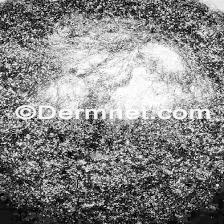Toxin: (47, 44, 185, 106)
